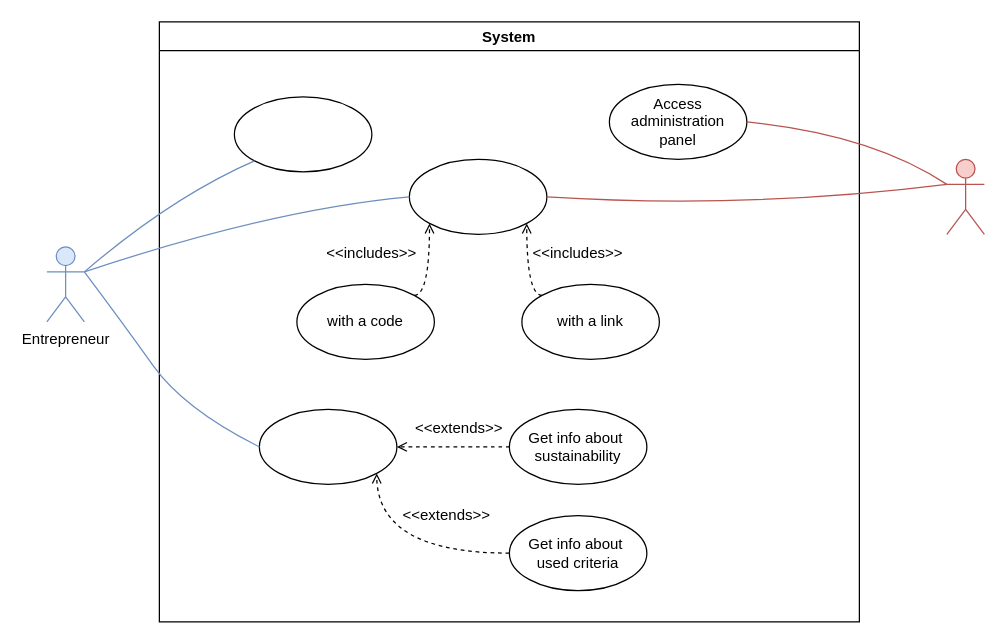
Some shapes in this 1008 by 644 pixel diagram are drawn without their labels. The box of each missing label's shape, as (x1, y1, x2, y2) in pixels:
Access results: (408, 158, 547, 234)
Admin: (946, 158, 984, 234)
Fill a form: (233, 96, 372, 172)
Get more information: (258, 408, 397, 484)
